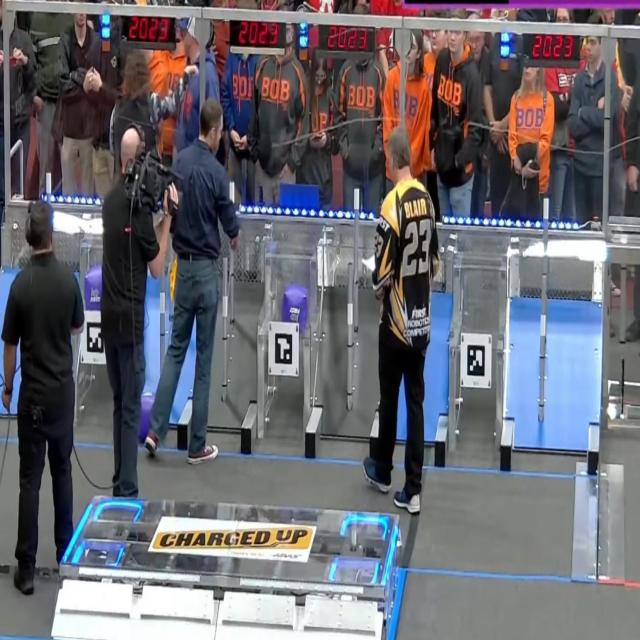frc_cone: (171, 262, 178, 297)
frc_cube: (283, 284, 307, 325), (84, 266, 102, 308), (139, 394, 156, 436)
